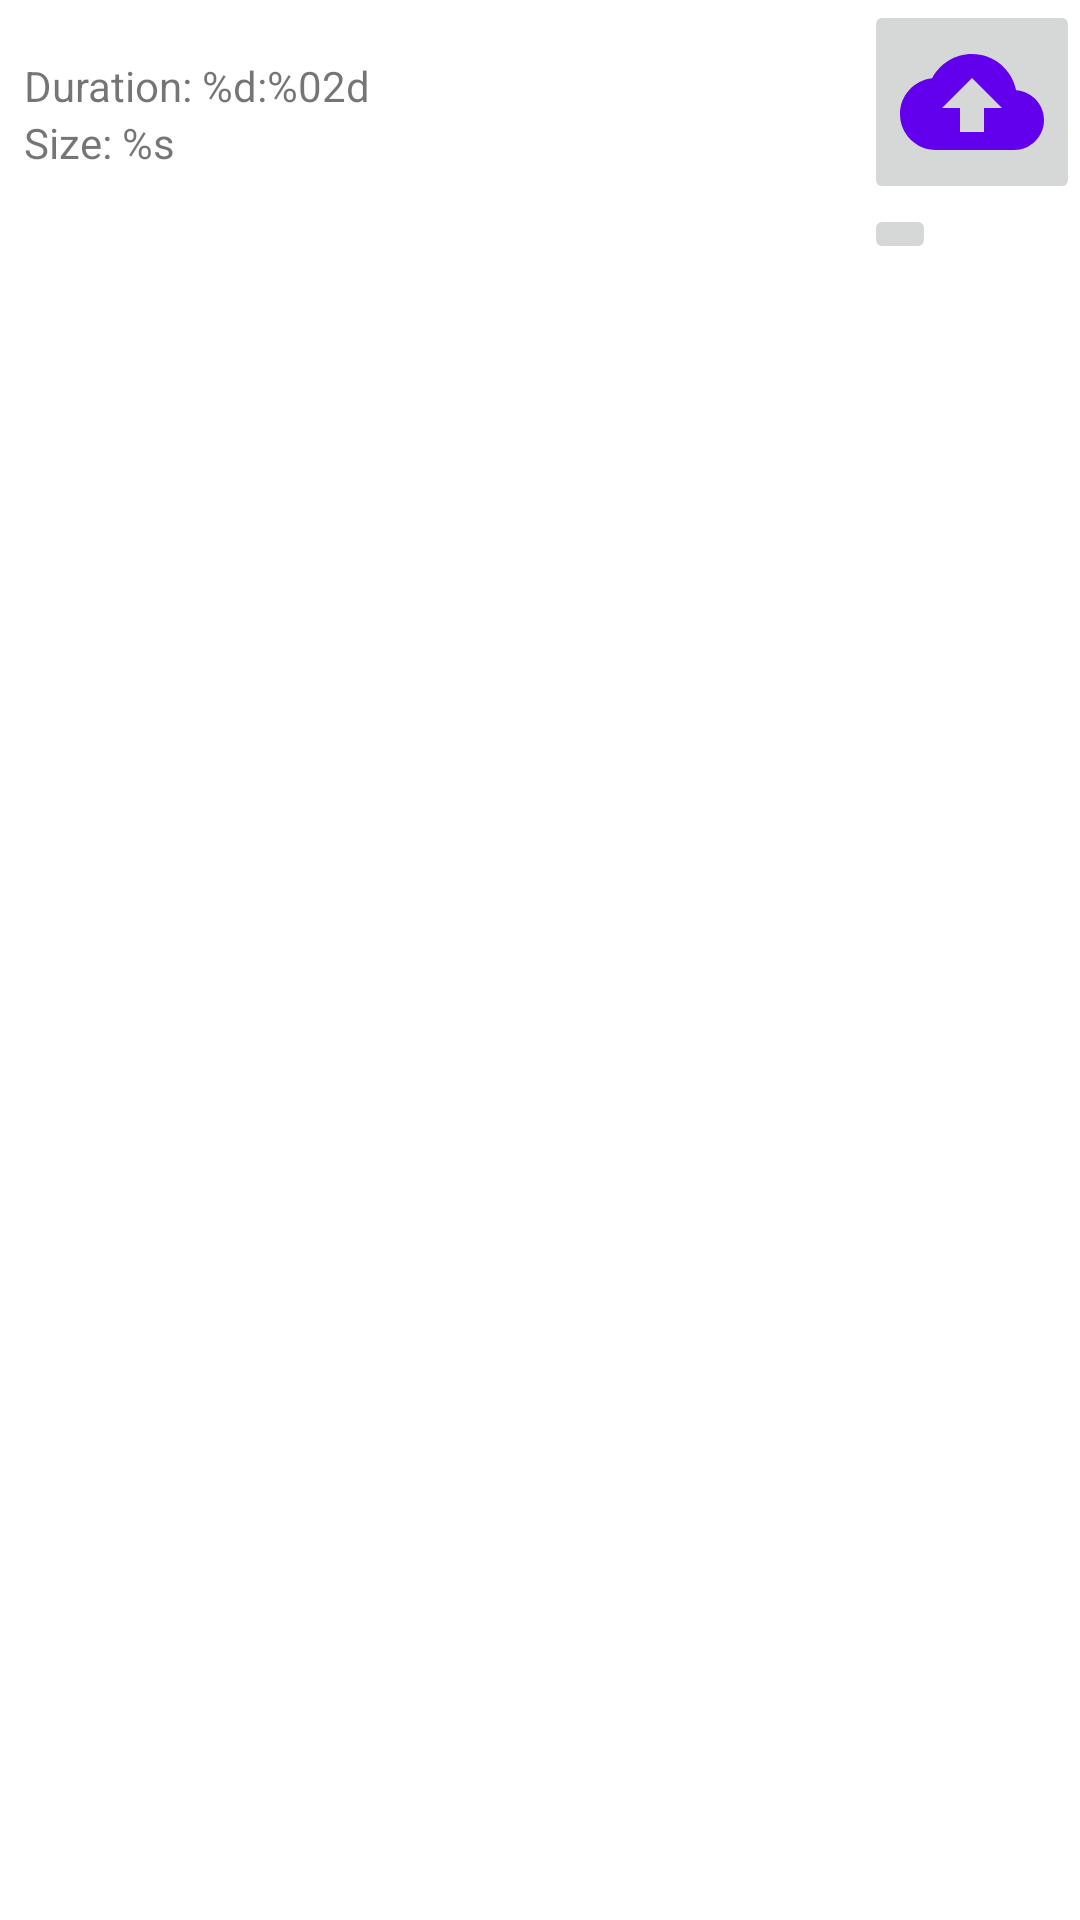

Icon bounding boxes for this 1080 × 1920 phone screenshot, format Rect(x1, y1, x2, y2):
Send video to processing: Rect(876, 18, 1068, 186)
